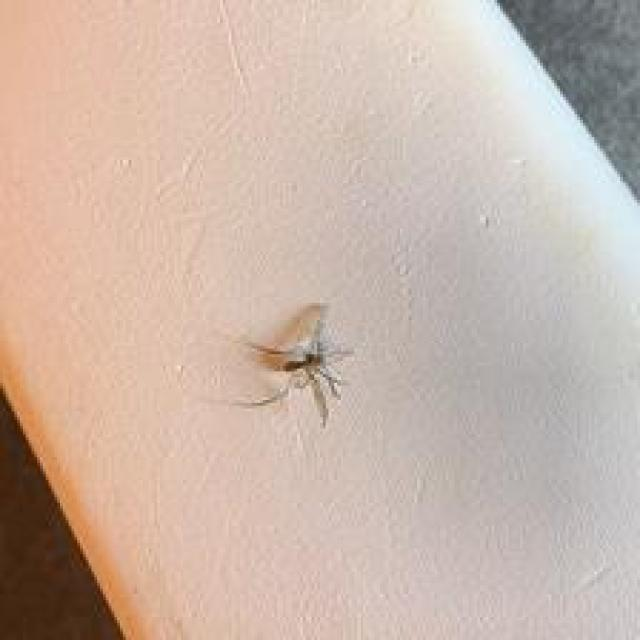Culex: (233, 302, 356, 427)
